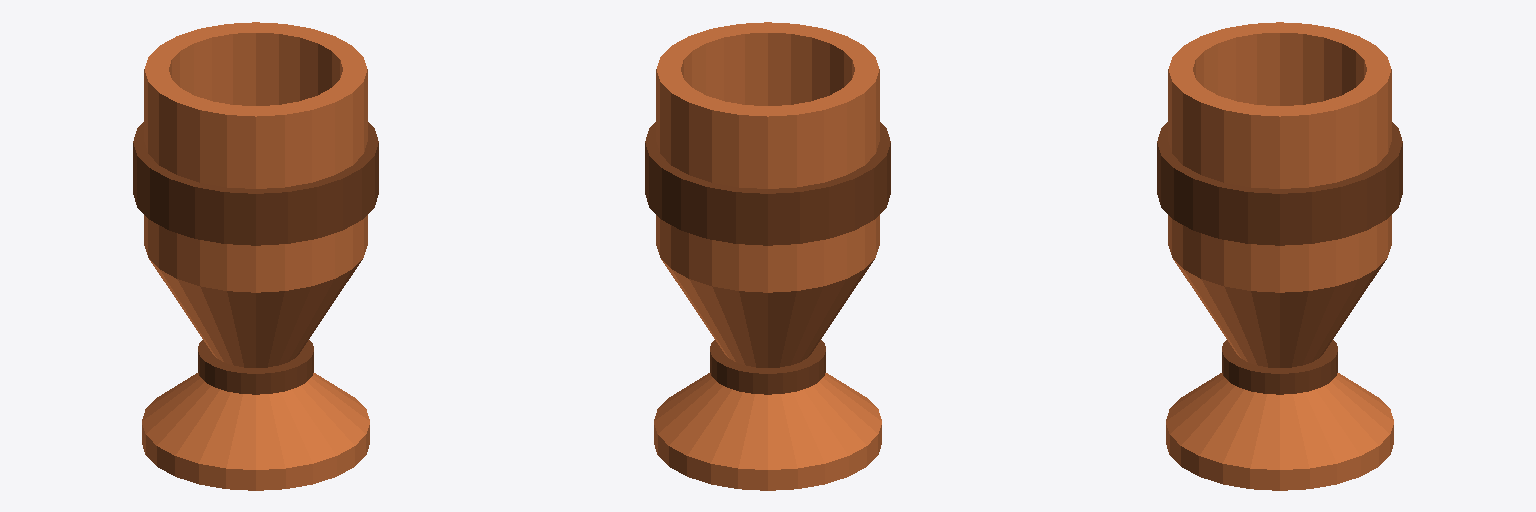
Rendered from kwanzaaKikombe.obj.
The picture shows the model from 3 angles: view 1: azimuth 30°, elevation 25°; view 2: azimuth 150°, elevation 25°; view 3: azimuth 270°, elevation 25°; orthographic projection.
Visible parts, largest first — view 1: kwanzaaKikombe; view 2: kwanzaaKikombe; view 3: kwanzaaKikombe.
Part boxes in pixels (x1,y1,x2,y2): kwanzaaKikombe: (133, 22, 378, 490); kwanzaaKikombe: (645, 22, 890, 490); kwanzaaKikombe: (1157, 22, 1402, 490).
Bounding box in the file's own units: 0.1075 × 0.18 × 0.1075.